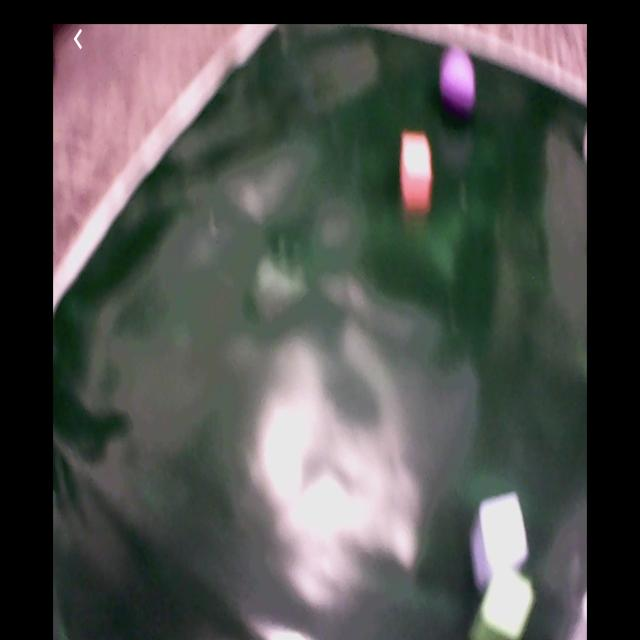ball: (443, 56, 477, 113)
